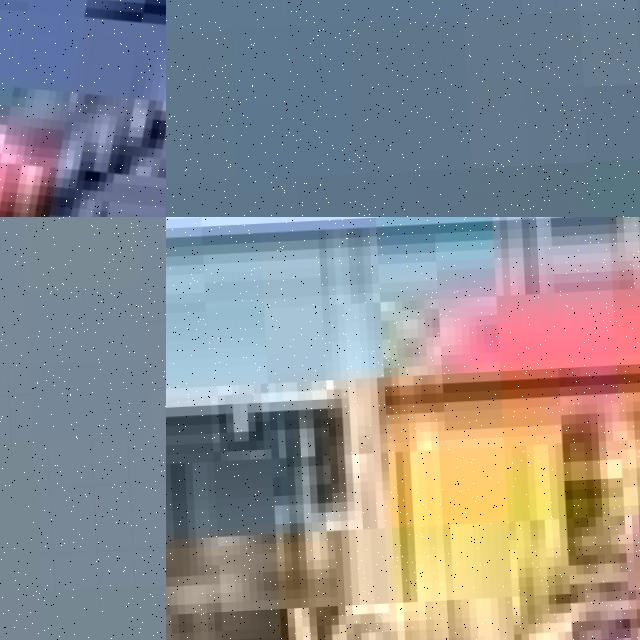drone: (0, 0, 166, 217)
